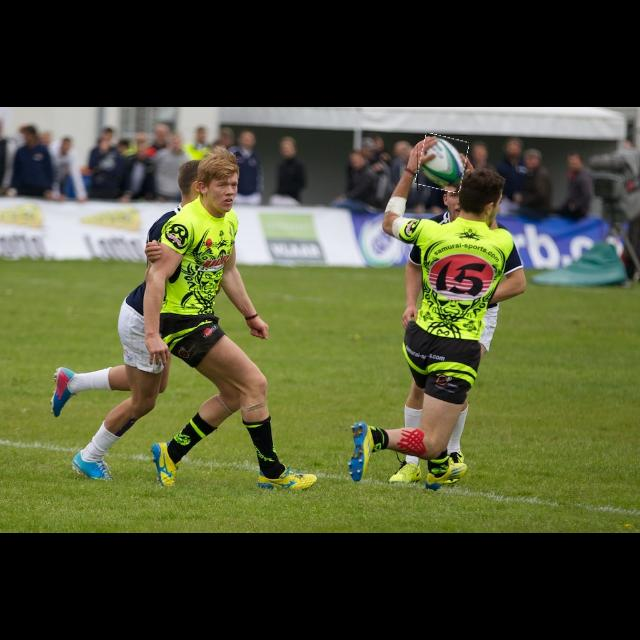Football: (417, 135, 467, 191)
